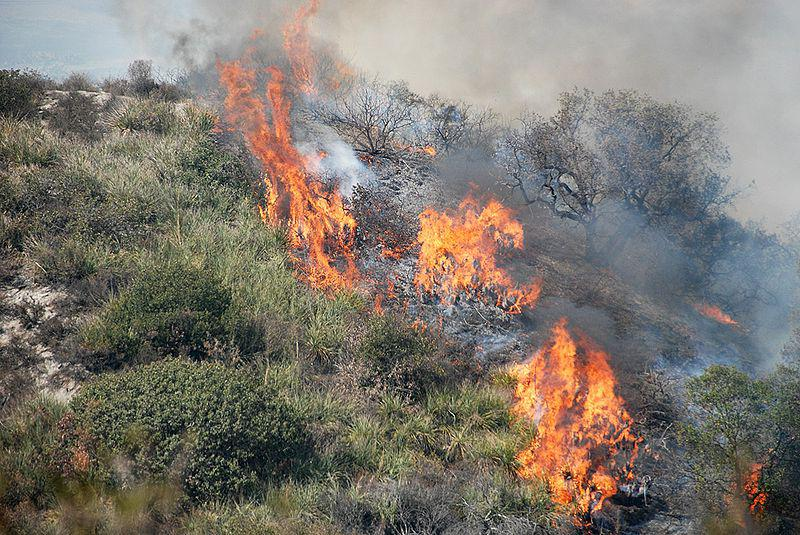fire: (210, 10, 370, 306), (502, 329, 650, 522), (406, 180, 562, 323), (745, 460, 771, 510)
